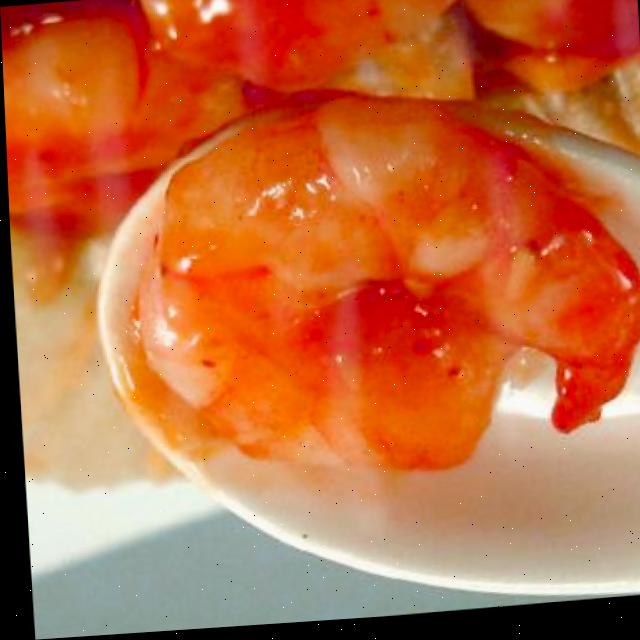熟制海鲜: (0, 0, 640, 507)
